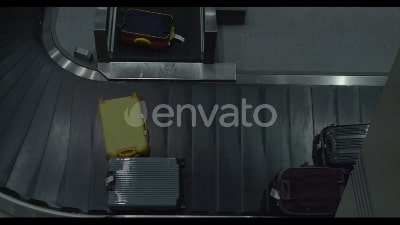baggage: (103, 156, 191, 216), (265, 166, 346, 221), (94, 93, 153, 157), (111, 9, 189, 52), (318, 120, 375, 165)
